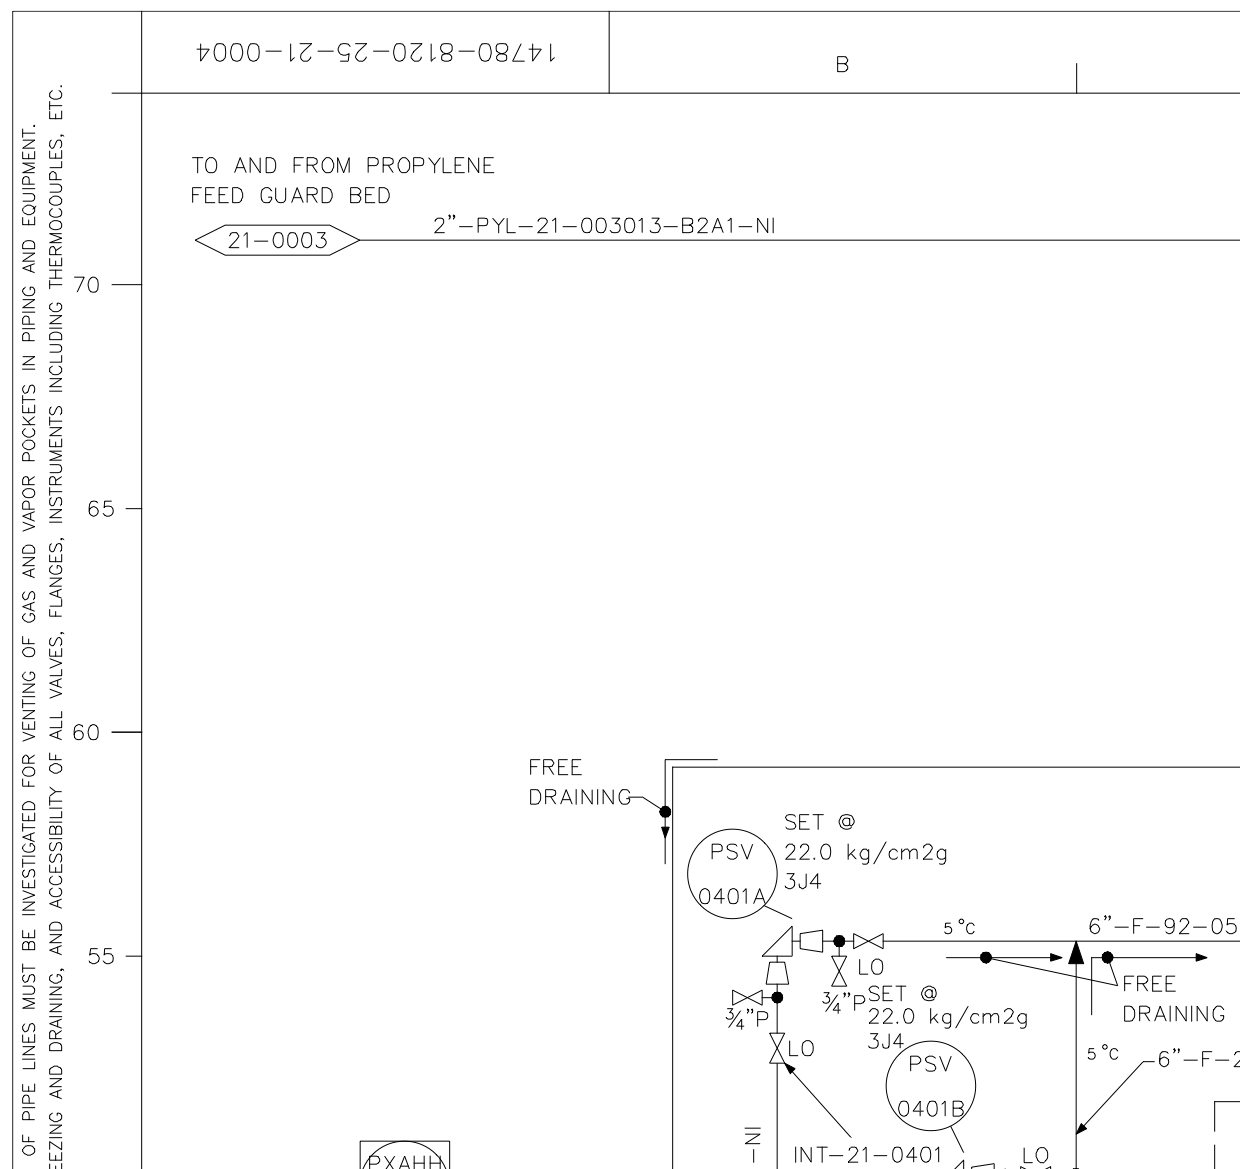Instrument Tag: (685, 825, 781, 922), (884, 1036, 980, 1133)
Line Number: (426, 207, 782, 237)
PSV: (758, 922, 797, 960)
